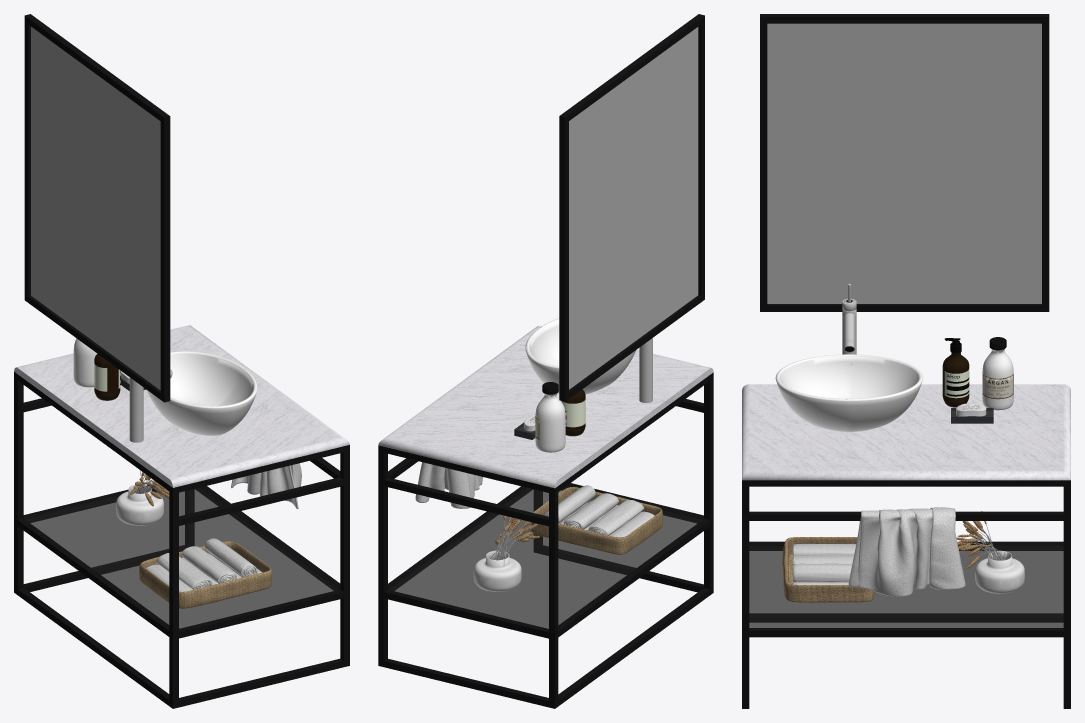
The model's file is aura-noir-blanc.glb.
3 views of the same model, side by side, from view 1: azimuth 30°, elevation 25°; view 2: azimuth 150°, elevation 25°; view 3: azimuth 270°, elevation 25° (orthographic). The views are drawn at different scales.
Visible parts, largest first — view 1: G-Object.016, G-Object.013, G-Object.015, _G-Object (Loose Mesh), G-Object.021, G-Object.003, C-Component#189, G-Object.007, C-model_urna.FBX, G-Object.001, G-Object.008, G-Object.011 (+9 smaller); view 2: G-Object.016, G-Object.013, G-Object.015, G-Object.003, _G-Object (Loose Mesh), C-Component#189, C-model_urna.FBX, G-Object.021, G-Object.007, G-Object.005, G-Object.012, G-Group2 (+9 smaller); view 3: G-Object.016, G-Object.013, G-Object.015, G-Object.021, G-Group2, _G-Object (Loose Mesh), G-Object.011, C-model_urna.FBX, C-Component#189, G-Object.006, G-Object.002, G-Object.003 (+9 smaller).
Boxes of the visible parts, bbox=[...] form: G-Object.016: bbox=[24, 14, 170, 402]; G-Object.013: bbox=[14, 325, 349, 487]; G-Object.015: bbox=[24, 487, 339, 628]; _G-Object (Loose Mesh): bbox=[17, 445, 349, 708]; G-Object.021: bbox=[147, 351, 257, 435]; G-Object.003: bbox=[14, 372, 194, 594]; C-Component#189: bbox=[139, 541, 271, 608]; G-Object.007: bbox=[17, 518, 169, 636]; C-model_urna.FBX: bbox=[116, 470, 169, 525]; G-Object.001: bbox=[179, 589, 343, 638]; G-Object.008: bbox=[179, 477, 343, 525]; G-Object.011: bbox=[195, 486, 340, 590]; G-Object.016: bbox=[559, 14, 704, 401]; G-Object.013: bbox=[378, 326, 713, 488]; G-Object.015: bbox=[388, 485, 703, 628]; G-Object.003: bbox=[378, 445, 558, 708]; _G-Object (Loose Mesh): bbox=[534, 372, 713, 706]; C-Component#189: bbox=[530, 487, 662, 554]; C-model_urna.FBX: bbox=[473, 515, 539, 591]; G-Object.021: bbox=[525, 318, 636, 394]; G-Object.007: bbox=[558, 519, 709, 637]; G-Object.005: bbox=[384, 590, 548, 638]; G-Object.012: bbox=[384, 477, 548, 526]; G-Group2: bbox=[415, 462, 482, 508]; G-Object.016: bbox=[760, 14, 1049, 311]; G-Object.013: bbox=[742, 384, 1070, 480]; G-Object.015: bbox=[749, 544, 1063, 627]; G-Object.021: bbox=[775, 354, 922, 431]; G-Group2: bbox=[848, 507, 965, 596]; _G-Object (Loose Mesh): bbox=[742, 486, 1063, 708]; G-Object.011: bbox=[749, 628, 1063, 637]; C-model_urna.FBX: bbox=[956, 511, 1024, 593]; C-Component#189: bbox=[782, 537, 874, 602]; G-Object.006: bbox=[742, 480, 1070, 486]; G-Object.002: bbox=[749, 511, 1063, 520]; G-Object.003: bbox=[1063, 486, 1070, 708].
Size of the model in its own units: 0.6638 by 1.85 by 0.91.
26 materials, 11 textured.
